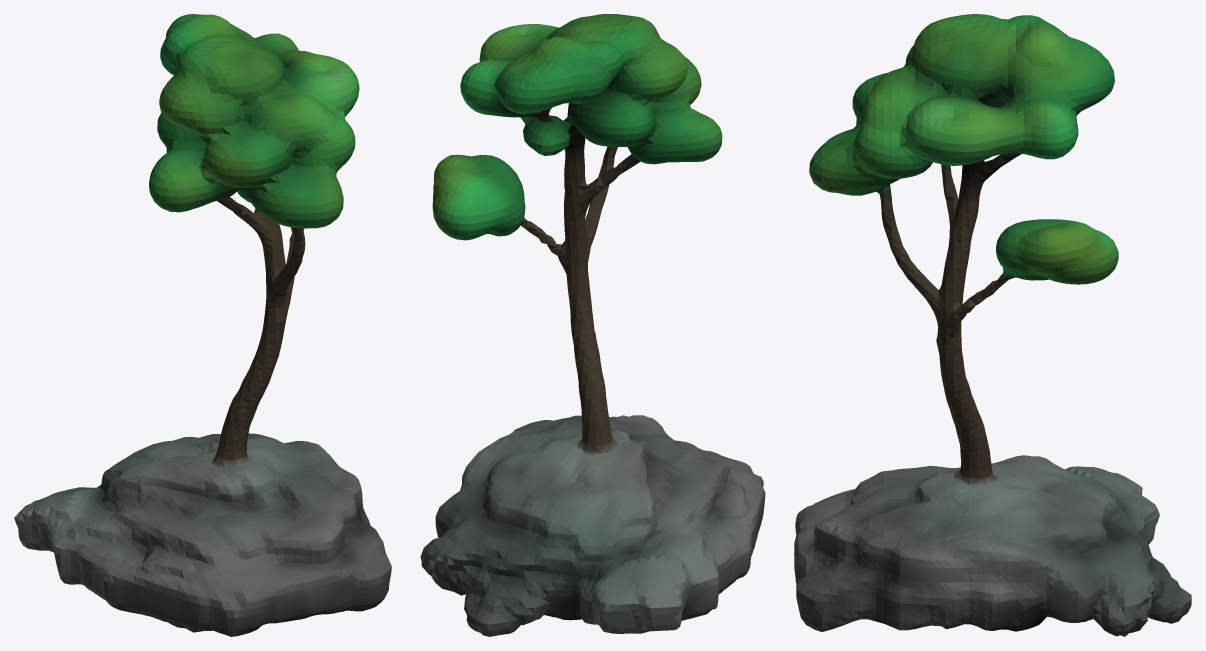
The model's file is MasterpieceVR_TreeWithLODs.fbx.
The picture shows the model from 3 angles, left to right: view 1: azimuth 30°, elevation 25°; view 2: azimuth 150°, elevation 25°; view 3: azimuth 270°, elevation 25°; orthographic projection. The views are drawn at different scales.
Visible parts, largest first — view 1: Tree_LOD0; view 2: Tree_LOD0; view 3: Tree_LOD0.
Boxes of the visible parts, x1,y1,x2,y2 form: Tree_LOD0: (14, 14, 391, 636); Tree_LOD0: (420, 14, 765, 636); Tree_LOD0: (794, 14, 1191, 636).
Size of what is drawn, in the model's own units: 2268 by 4305 by 2669.
